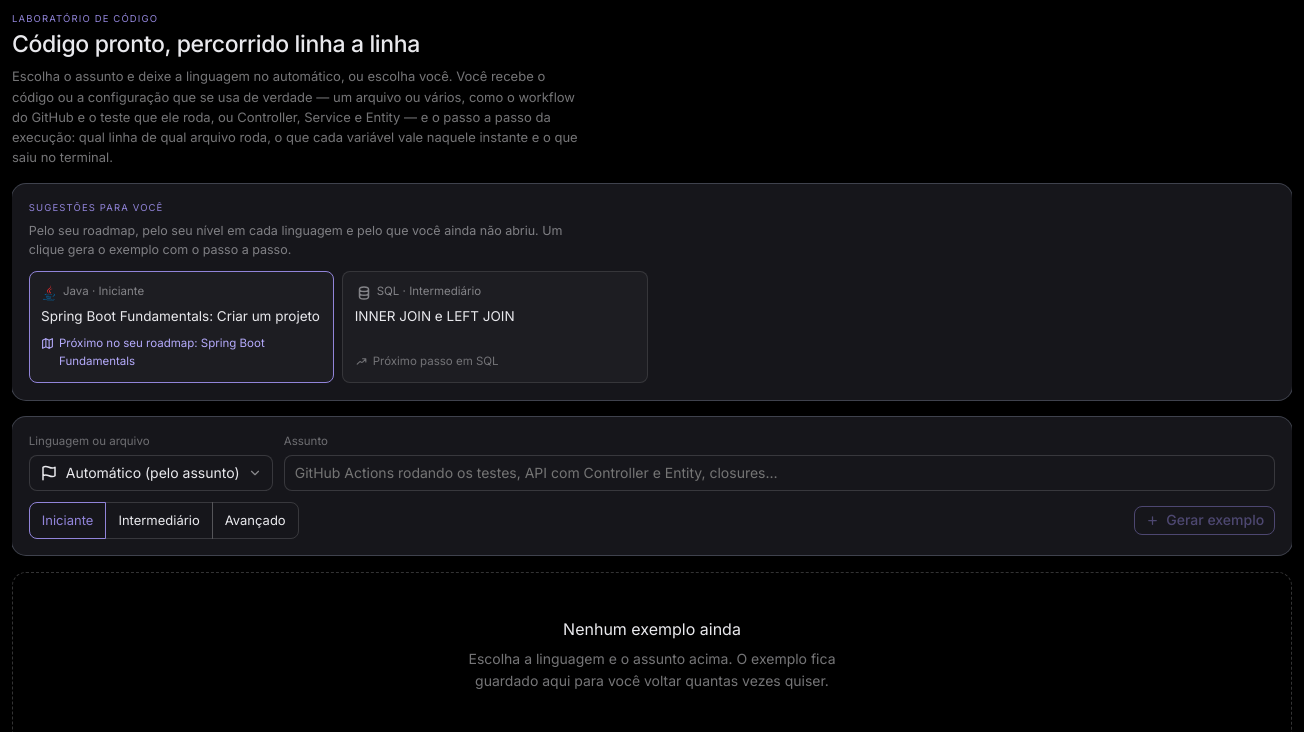
it: laboratório de código › o gerador começa no automático e oferece as linguagens do perfil e os arquivos de ferramenta
Click the dropdown named "Linguagem ou arquivo": (151, 473) [29, 455, 273, 491]
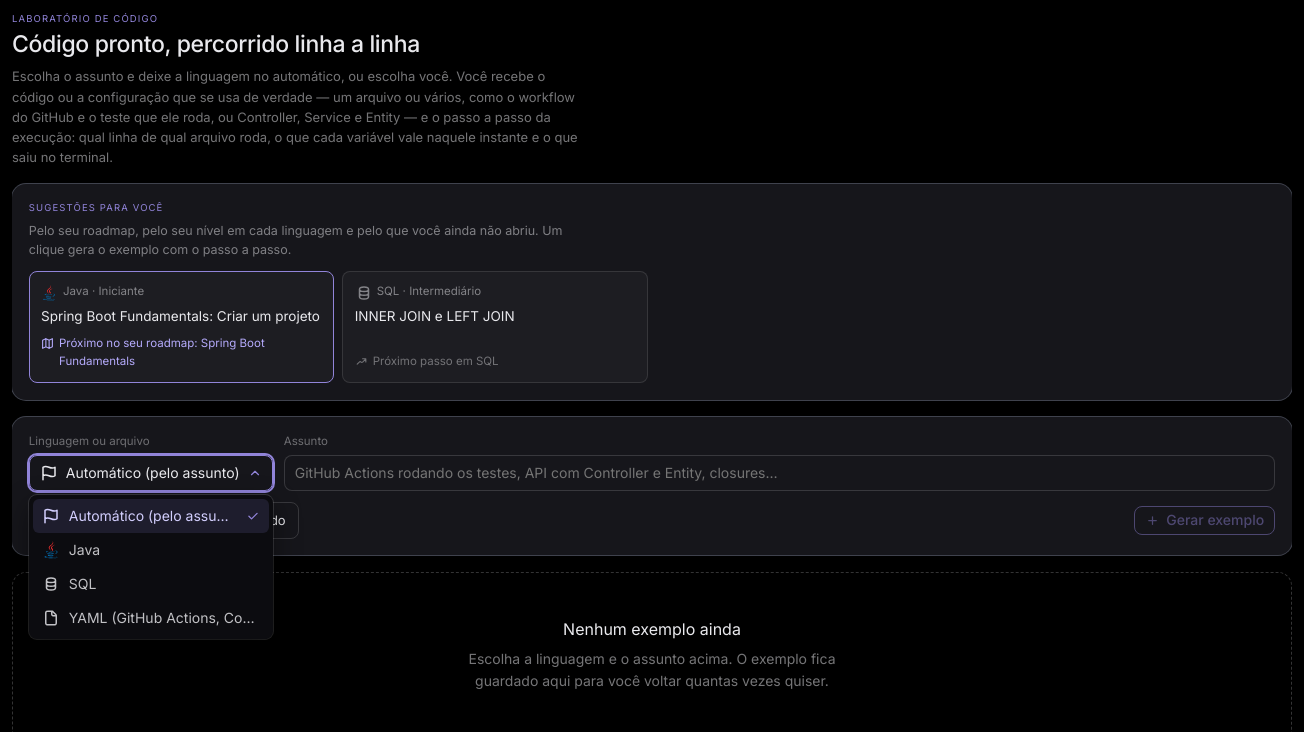
Expected: the options read "Automático (pelo assunto)", "Java", "SQL", "YAML (GitHub Actions, Compose, Kubernetes)", in this order, [33, 499, 269, 533]; [42, 541, 100, 559]; [42, 575, 96, 593]; [42, 609, 272, 627]
Press Escape
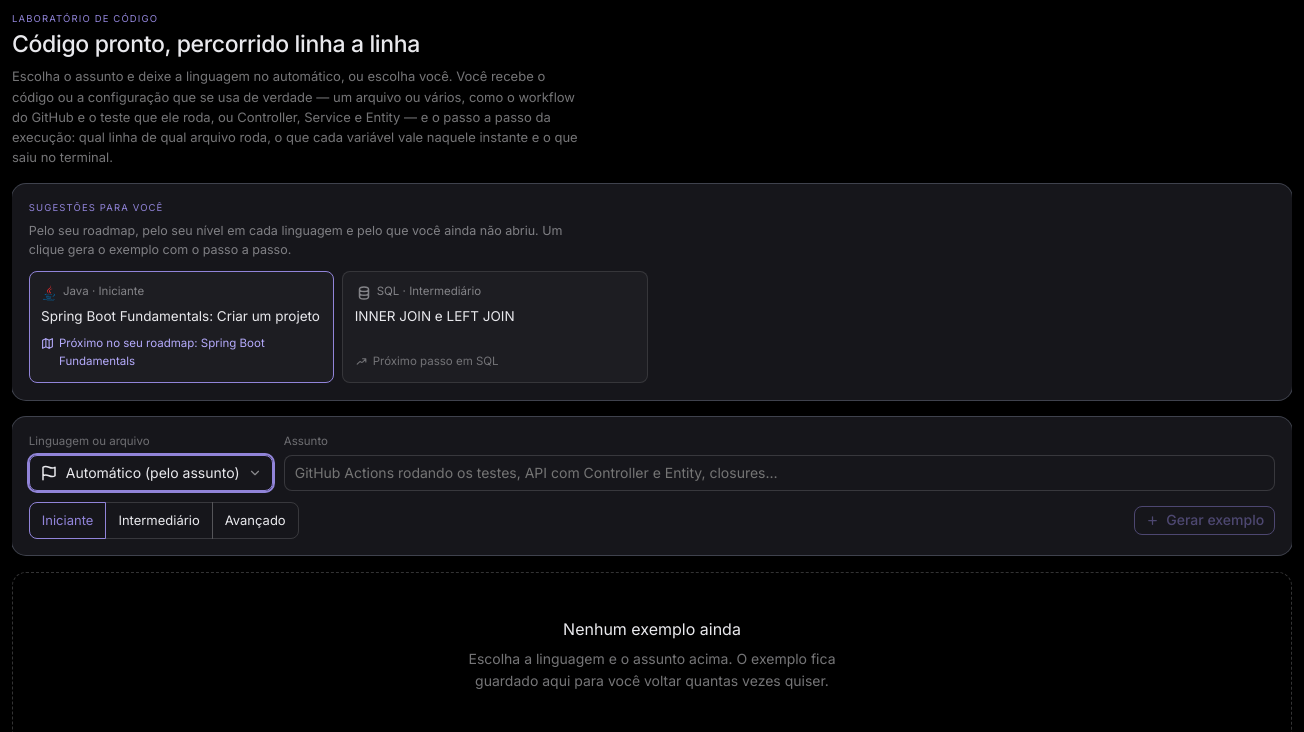
In the field with placeholder "GitHub Actions rodando os testes": (779, 473) [284, 455, 1275, 491], type "GitHub e testes automatizados"
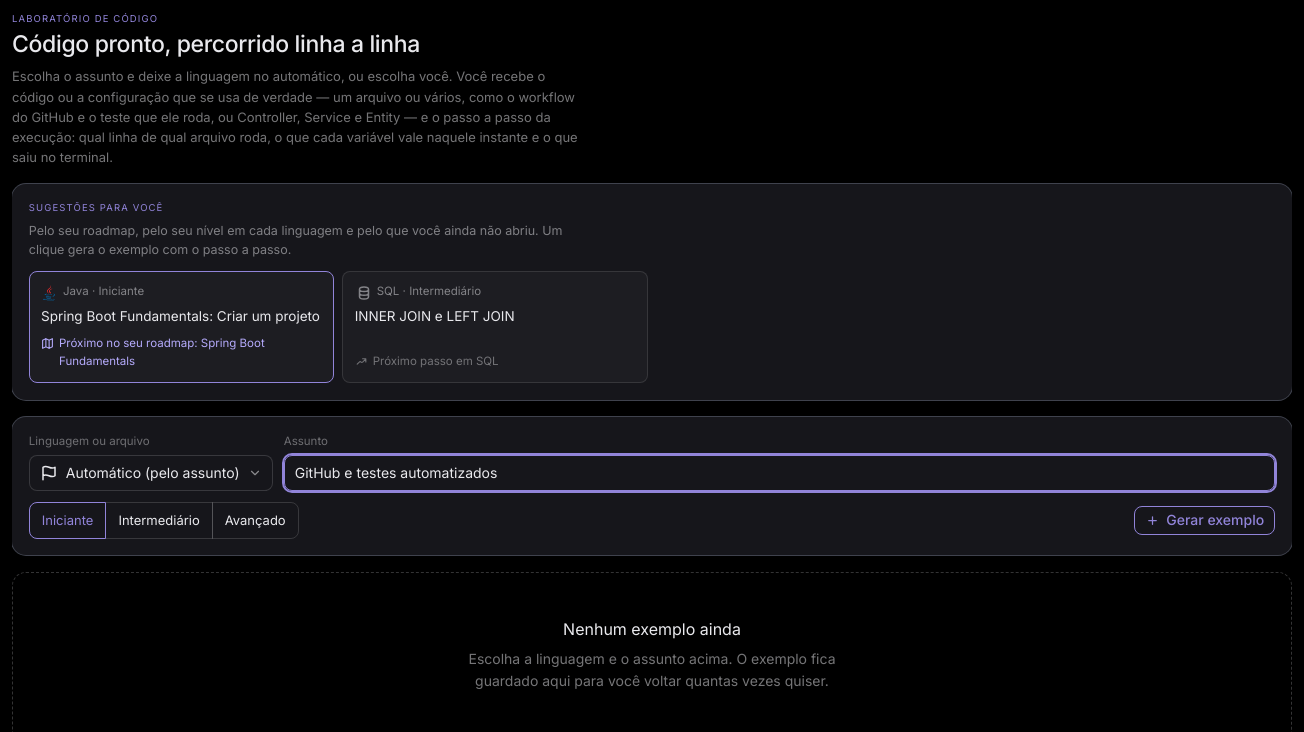
Click the button "Gerar exemplo": (1205, 520) [1134, 506, 1275, 536]
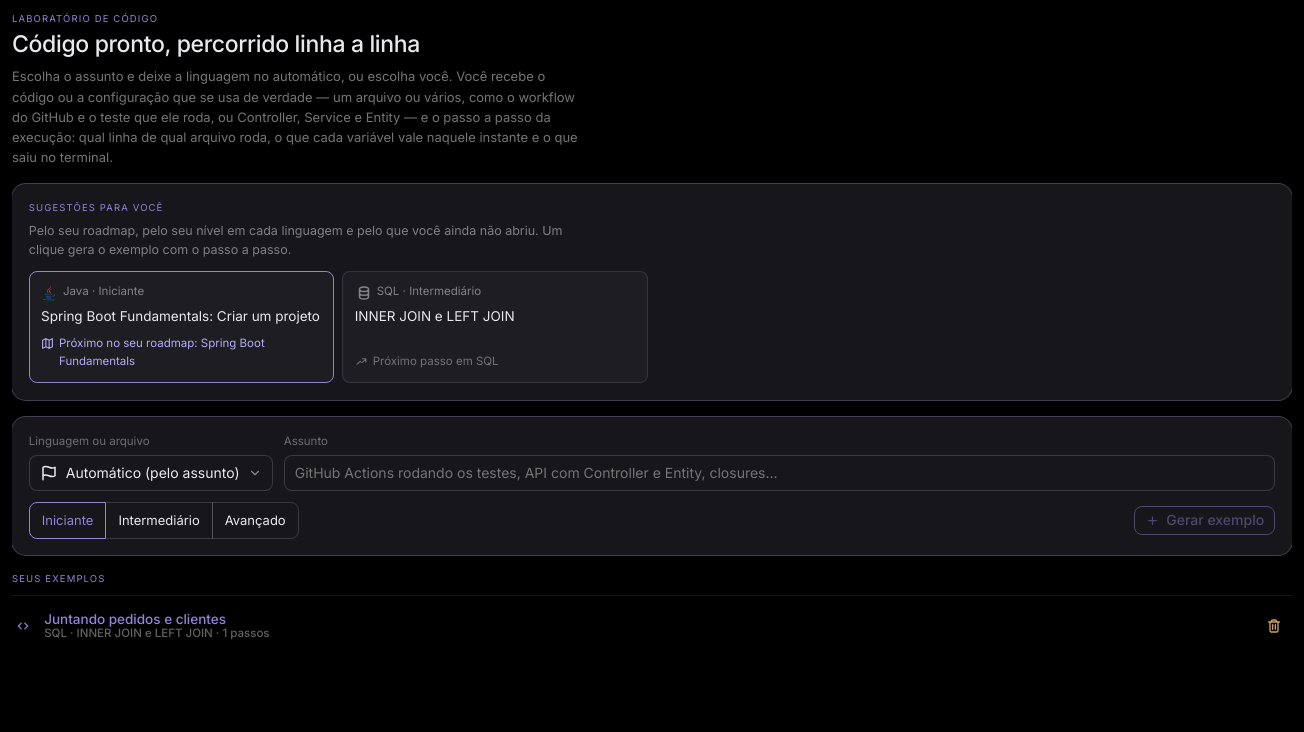
Expected: the text "Juntando pedidos e clientes" is shown, [44, 611, 226, 627]
